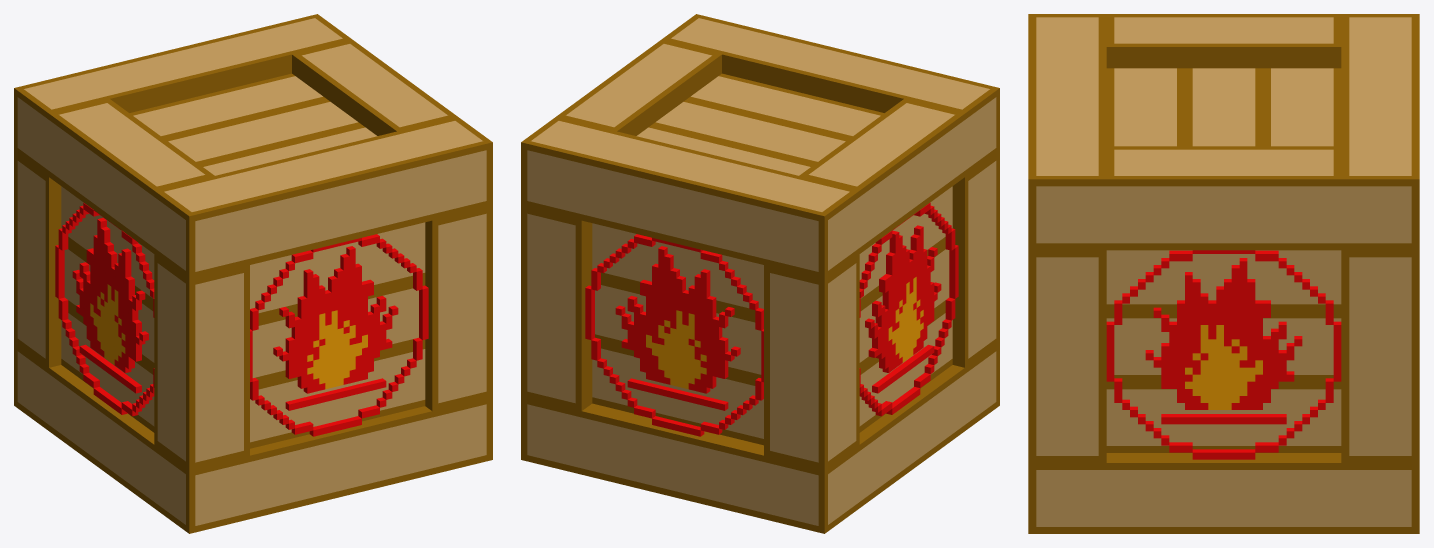
Rendered from Bomb.fbx.
3 renders of one model, left to right at view 1: azimuth 30°, elevation 25°; view 2: azimuth 150°, elevation 25°; view 3: azimuth 270°, elevation 25°, orthographic. The views are drawn at different scales.
Parts seen in each view (by area): view 1: ObjObject, ObjObject.001, ObjObject.002; view 2: ObjObject, ObjObject.001, ObjObject.002; view 3: ObjObject, ObjObject.001, ObjObject.002.
Part boxes in pixels (x1,y1,x2,y2): ObjObject: [14, 14, 492, 533]; ObjObject.001: [72, 218, 398, 410]; ObjObject.002: [55, 202, 428, 436]; ObjObject: [521, 14, 999, 533]; ObjObject.001: [615, 225, 941, 410]; ObjObject.002: [585, 202, 958, 436]; ObjObject: [1028, 14, 1419, 533]; ObjObject.001: [1145, 258, 1302, 424]; ObjObject.002: [1106, 250, 1341, 459].
Size of the model in its own units: 49.99 by 49.99 by 49.99.
